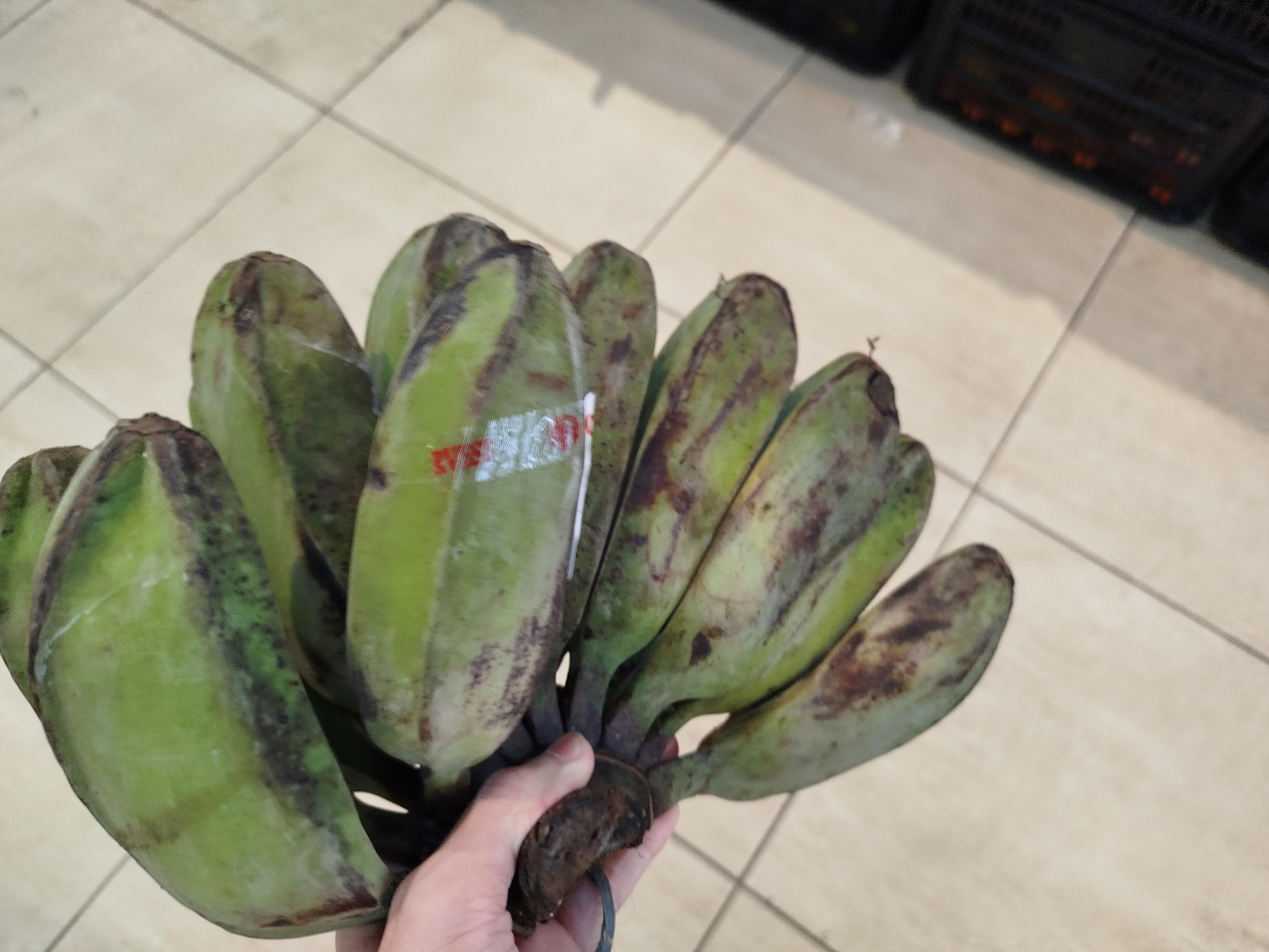underripe: (0, 214, 1013, 938)
